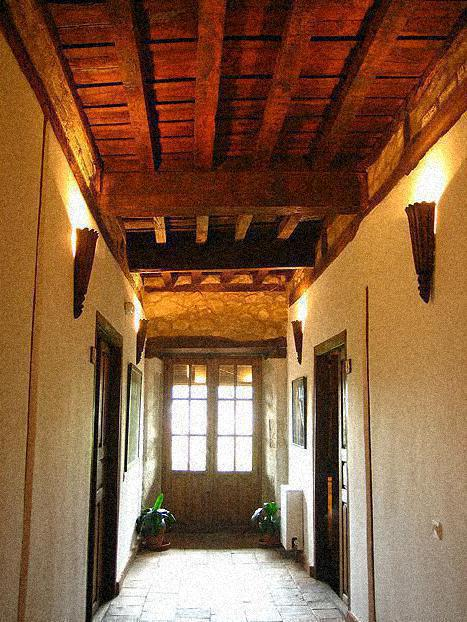Matera: (129, 502, 175, 555), (251, 498, 277, 542)
Puerta: (87, 332, 123, 613), (316, 330, 350, 591)
